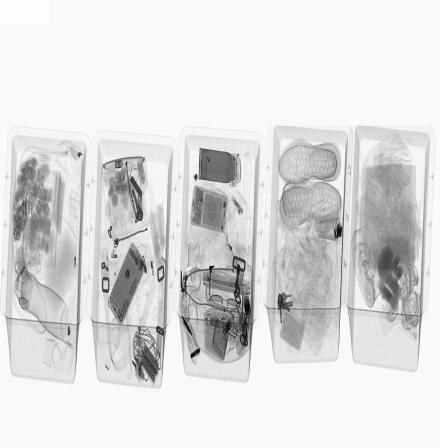Powerbank: (133, 335, 162, 390)
